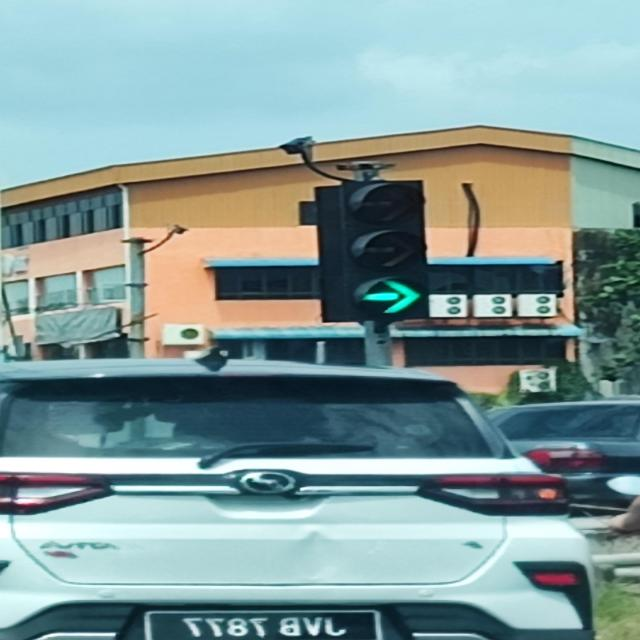car: (0, 348, 596, 640), (484, 396, 640, 516)
traffic light: (314, 179, 429, 325)
